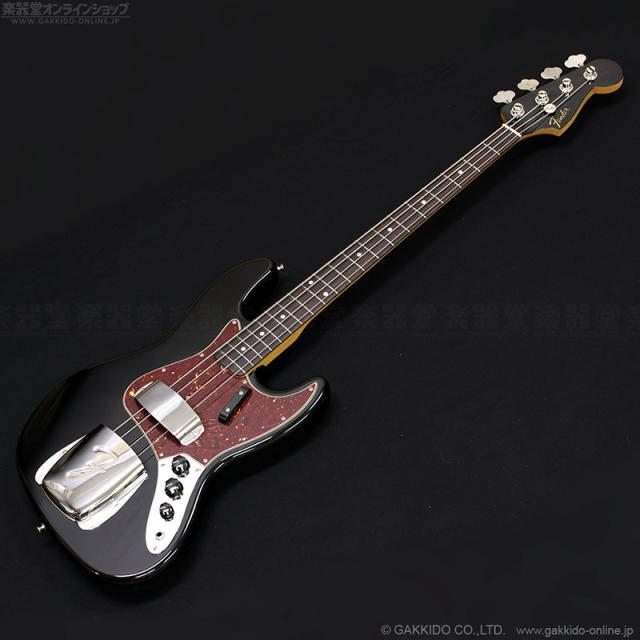bass: (18, 55, 622, 579)
